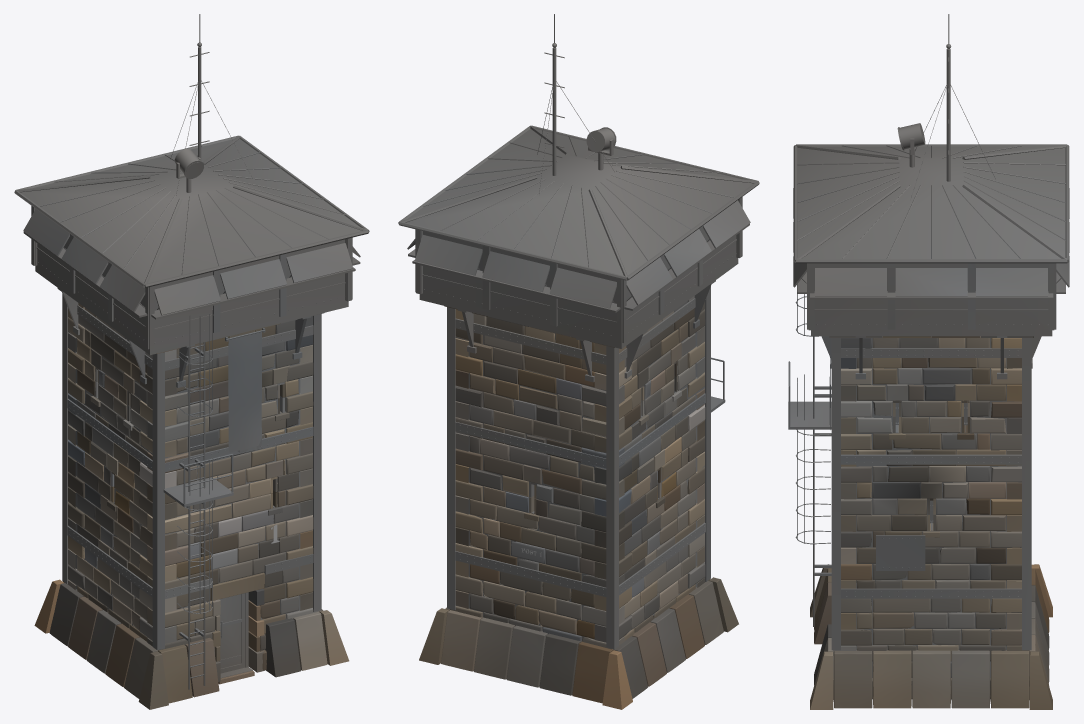
File: Watchtower_LOD0.glb
3 renders of one model, left to right at view 1: azimuth 30°, elevation 25°; view 2: azimuth 150°, elevation 25°; view 3: azimuth 270°, elevation 25°, orthographic. The views are drawn at different scales.
Parts seen in each view (by area): view 1: Watchtower_Masonry_LOD0, Watchtower_Metal_LOD0, Watchtower_Roof_LOD0, Watchtower_Trim_LOD0, Watchtower_Canvas_LOD0, Watchtower_Hardware_LOD0; view 2: Watchtower_Masonry_LOD0, Watchtower_Metal_LOD0, Watchtower_Roof_LOD0, Watchtower_Trim_LOD0, Watchtower_Hardware_LOD0; view 3: Watchtower_Masonry_LOD0, Watchtower_Metal_LOD0, Watchtower_Roof_LOD0, Watchtower_Trim_LOD0, Watchtower_Hardware_LOD0.
Part boxes in pixels (bbox=[...]): Watchtower_Masonry_LOD0: bbox=[67, 303, 318, 670]; Watchtower_Metal_LOD0: bbox=[14, 14, 369, 689]; Watchtower_Roof_LOD0: bbox=[20, 139, 361, 283]; Watchtower_Trim_LOD0: bbox=[34, 312, 349, 709]; Watchtower_Canvas_LOD0: bbox=[228, 332, 261, 452]; Watchtower_Hardware_LOD0: bbox=[38, 146, 345, 678]; Watchtower_Masonry_LOD0: bbox=[450, 296, 705, 649]; Watchtower_Metal_LOD0: bbox=[398, 14, 759, 649]; Watchtower_Roof_LOD0: bbox=[406, 129, 753, 275]; Watchtower_Trim_LOD0: bbox=[419, 306, 738, 709]; Watchtower_Hardware_LOD0: bbox=[423, 136, 736, 594]; Watchtower_Masonry_LOD0: bbox=[833, 336, 1029, 699]; Watchtower_Metal_LOD0: bbox=[788, 14, 1069, 650]; Watchtower_Roof_LOD0: bbox=[797, 146, 1065, 258]; Watchtower_Trim_LOD0: bbox=[810, 336, 1052, 709]; Watchtower_Hardware_LOD0: bbox=[797, 145, 1065, 596].
Size of the model in its own units: 6.46 by 16.92 by 6.58.
